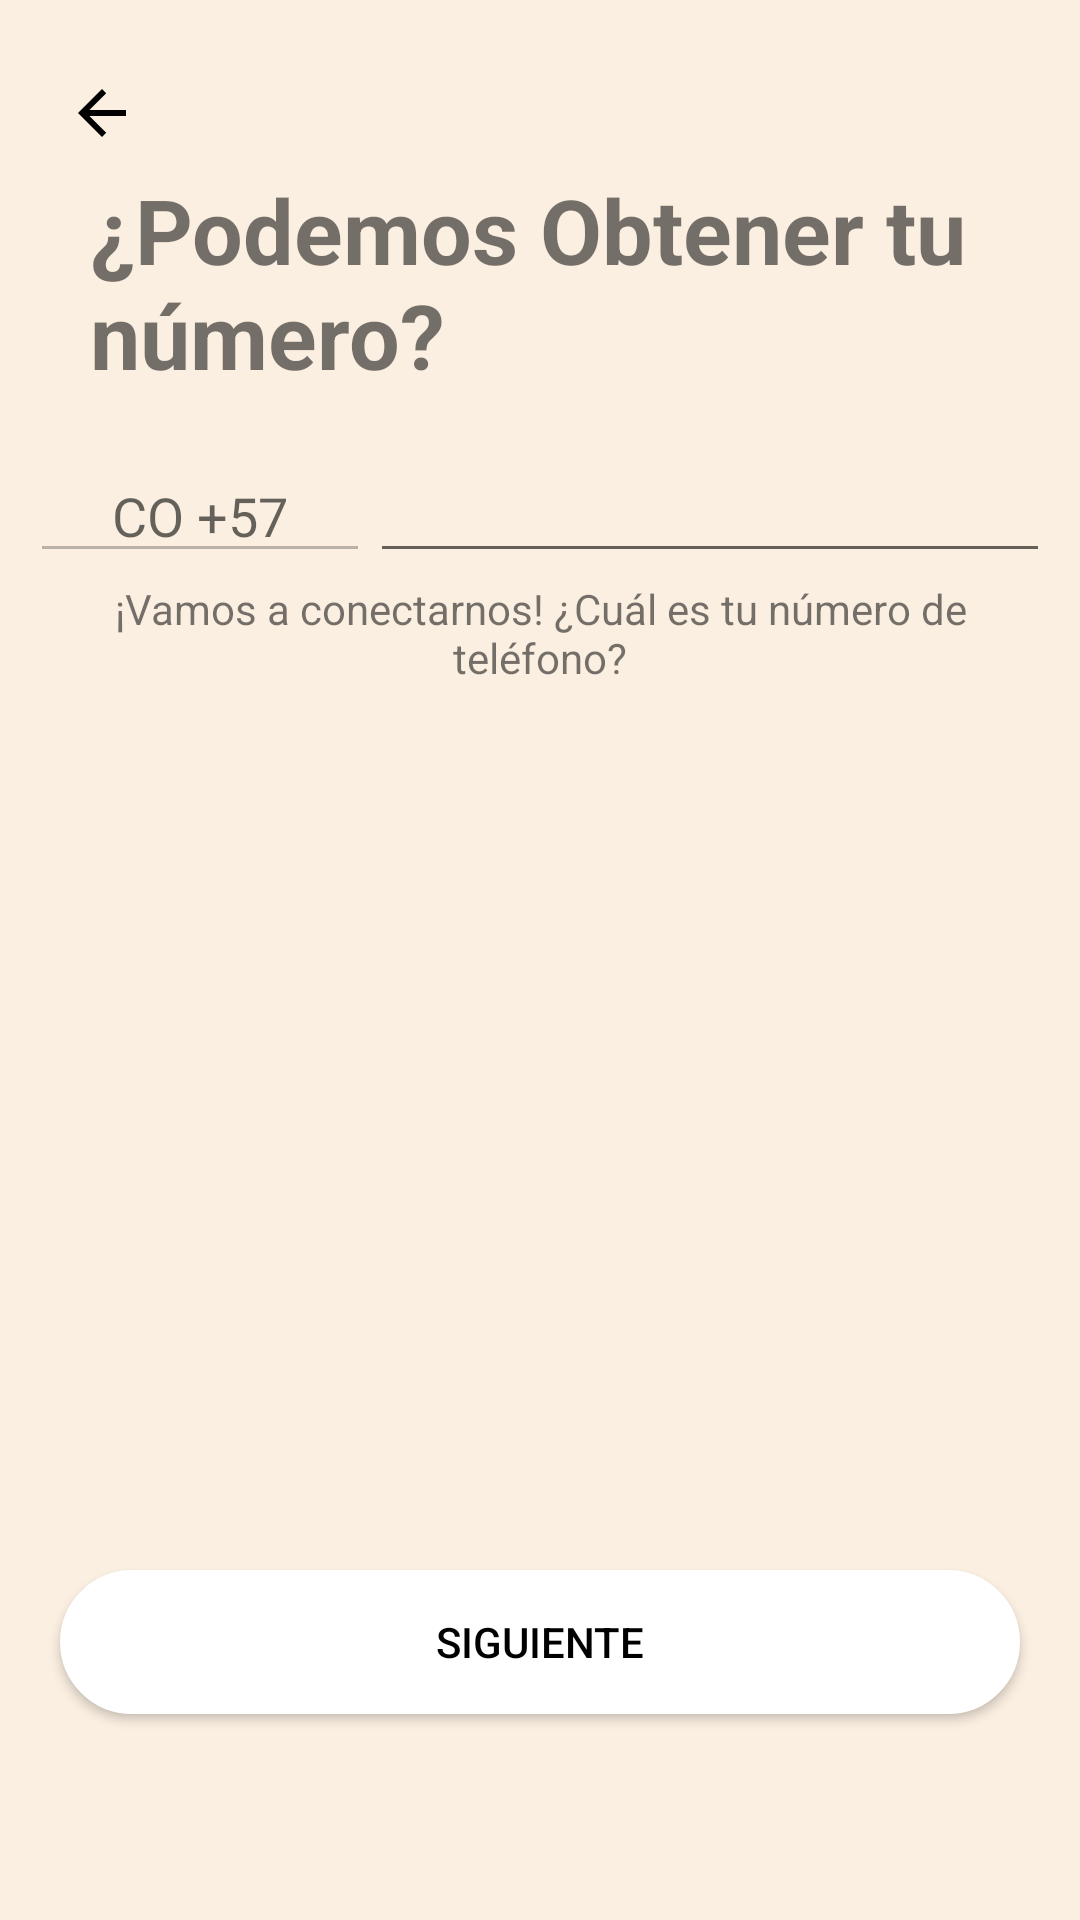

Where to tap for icons on this 1080px×1920px app screen, as (x=x, y=y):
Volver atras: (x=102, y=113)
